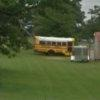Bus: (29, 31, 77, 56)
